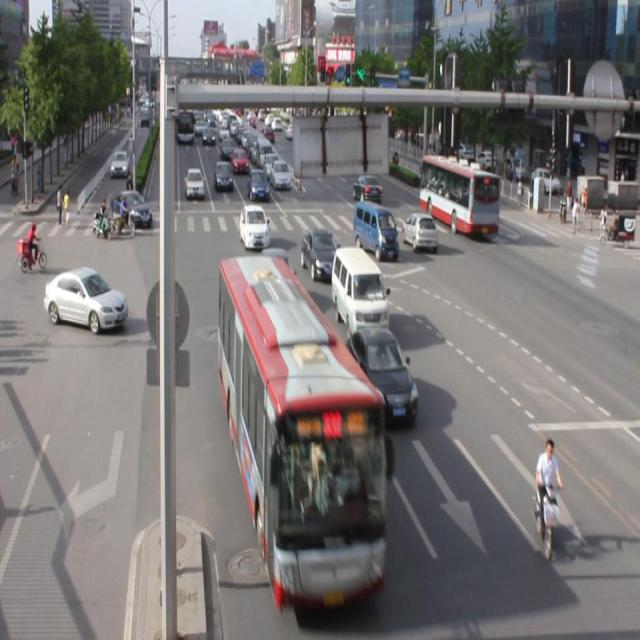car: (344, 326, 417, 425), (302, 226, 341, 284), (239, 202, 270, 248), (401, 212, 437, 250)
truck: (330, 246, 388, 332), (352, 198, 398, 259)
van: (219, 258, 384, 607), (420, 154, 498, 234)
